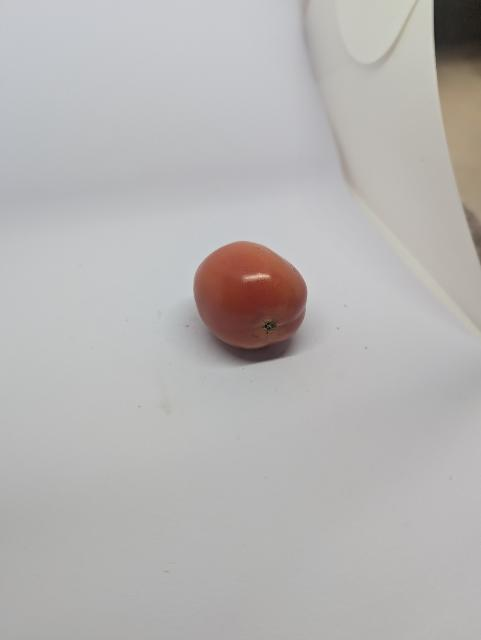red: (182, 241, 331, 363)
